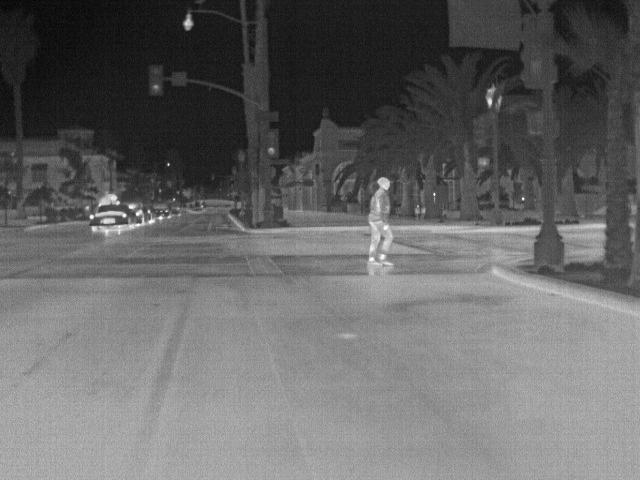car: (88, 204, 127, 236), (125, 201, 147, 226), (152, 200, 171, 220), (140, 203, 156, 224)
person: (366, 174, 394, 268)
